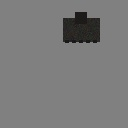armoured_vehicle: (63, 18, 100, 42)
